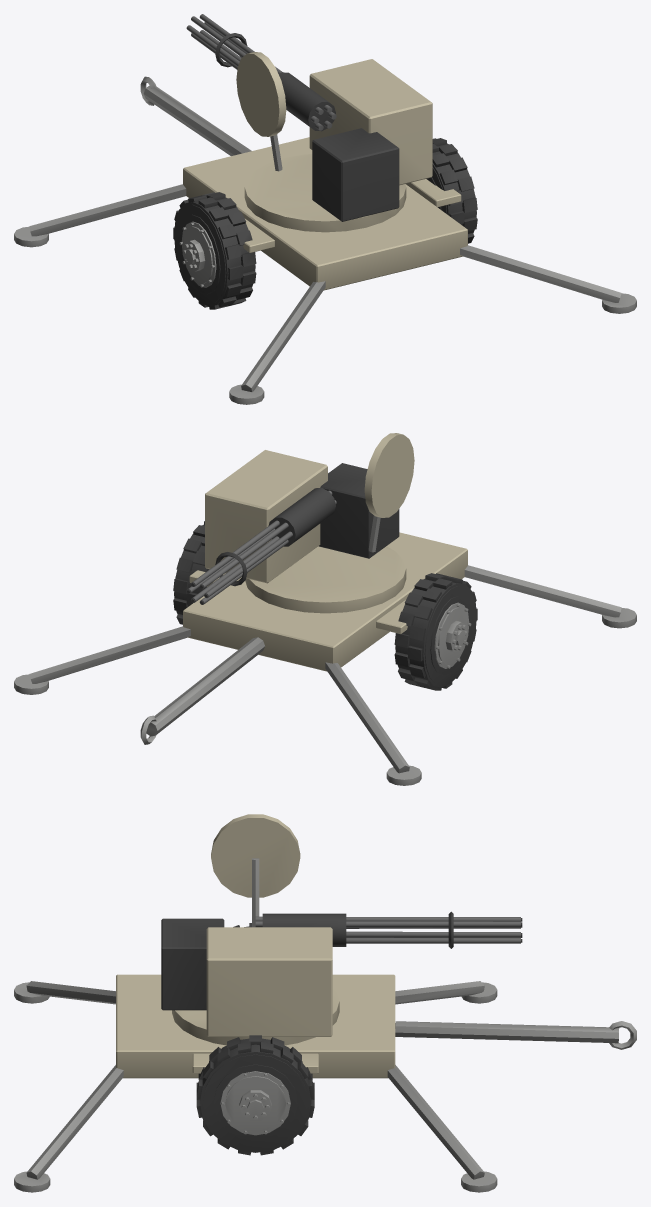
Rendered from aagun_usa.glb.
3 views of the same model, one above another, from view 1: azimuth 30°, elevation 25°; view 2: azimuth 150°, elevation 25°; view 3: azimuth 270°, elevation 25° (orthographic). The views are drawn at different scales.
Visible parts, largest first — view 1: body, turret, wheel_0, barrel, wheel_1; view 2: turret, body, wheel_0, barrel, wheel_1; view 3: body, turret, wheel_1, barrel.
Part boxes in pixels (<box>): body: <box>14,76,636,404</box>; turret: <box>236,52,432,232</box>; wheel_0: <box>173,192,256,309</box>; barrel: <box>186,14,336,131</box>; wheel_1: <box>426,138,477,243</box>; turret: <box>205,433,414,613</box>; body: <box>14,532,636,785</box>; wheel_0: <box>394,573,477,690</box>; barrel: <box>186,488,336,604</box>; wheel_1: <box>173,521,209,624</box>; body: <box>14,974,636,1192</box>; turret: <box>161,814,339,1045</box>; wheel_1: <box>196,1035,314,1155</box>; barrel: <box>255,911,522,948</box>.
Bounding box in the file's own units: 3.46 × 1.93 × 4.46.
